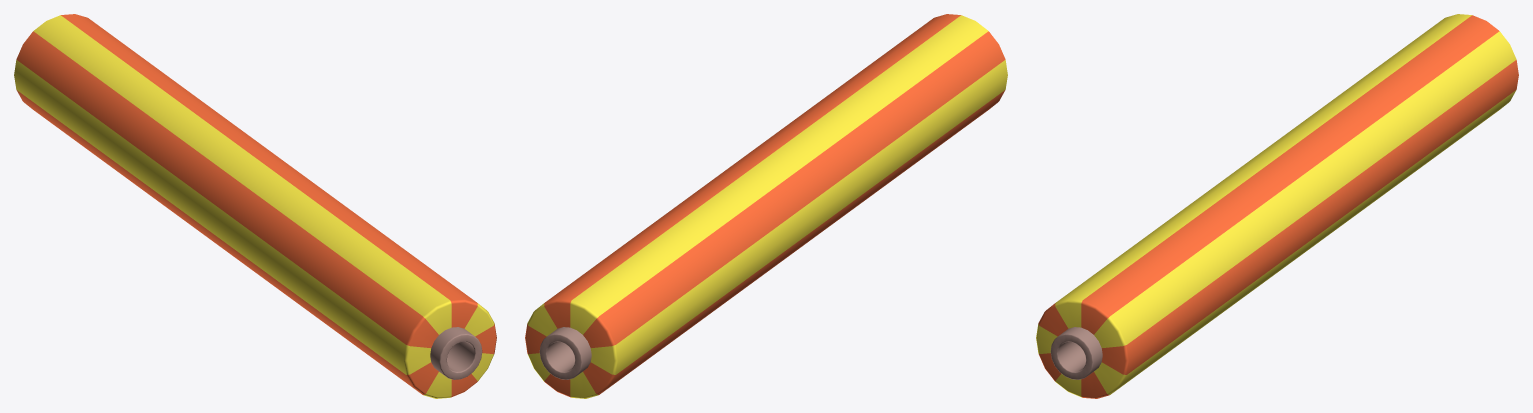
File: Public_19_Fabric_Roll_3.glb
3 views of the same model, side by side, from view 1: azimuth 30°, elevation 25°; view 2: azimuth 150°, elevation 25°; view 3: azimuth 330°, elevation 25° (orthographic).
Parts seen in each view (by area): view 1: Public_19_Fabric_Roll_3; view 2: Public_19_Fabric_Roll_3; view 3: Public_19_Fabric_Roll_3.
Part boxes in pixels (box(x1,y1,x2,y2)): Public_19_Fabric_Roll_3: box(14, 14, 496, 398); Public_19_Fabric_Roll_3: box(525, 14, 1007, 398); Public_19_Fabric_Roll_3: box(1036, 14, 1518, 398).
Bounding box in the file's own units: 0.397 × 0.397 × 3.04.
1 material, 1 textured.
